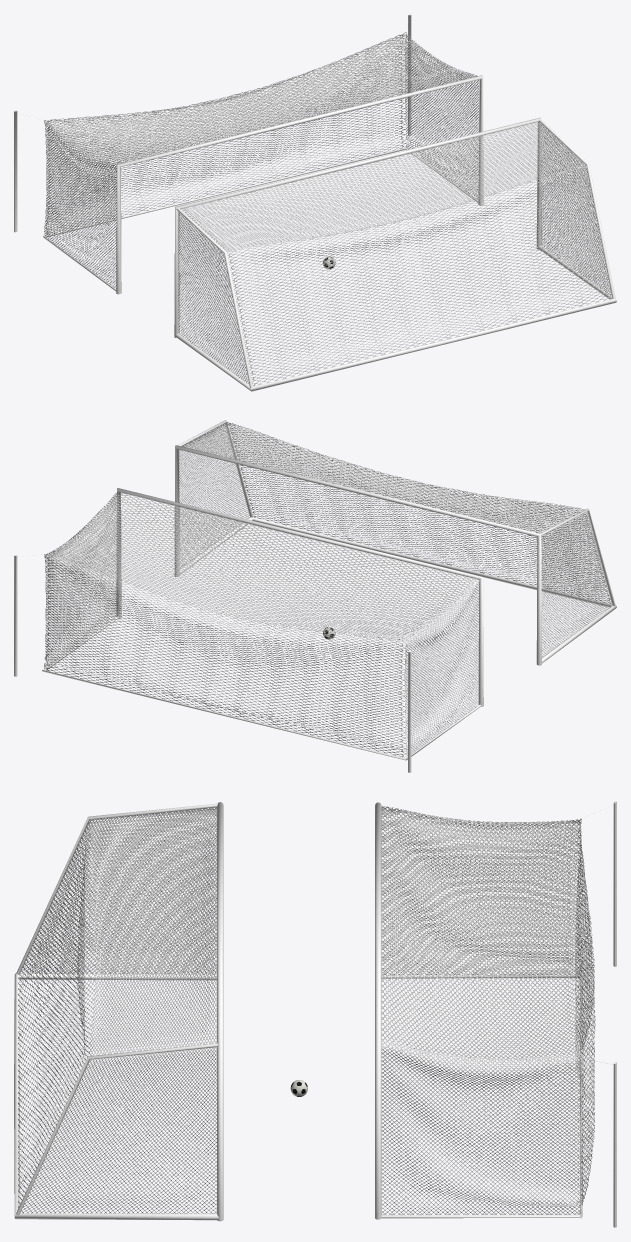
Rendered from uploads_files_5258920_Football.glb.
3 views of the same model, one above another, from view 1: azimuth 30°, elevation 25°; view 2: azimuth 150°, elevation 25°; view 3: azimuth 270°, elevation 25° (orthographic). The views are drawn at different scales.
Visible parts, largest first — view 1: Rectangular Goalpost, Suspended Goalpost; view 2: Suspended Goalpost, Rectangular Goalpost; view 3: Suspended Goalpost, Rectangular Goalpost.
Boxes of the visible parts, x1=… form: Rectangular Goalpost: x1=174, y1=117, x2=616, y2=391; Suspended Goalpost: x1=14, y1=14, x2=483, y2=294; Suspended Goalpost: x1=14, y1=488, x2=483, y2=772; Rectangular Goalpost: x1=174, y1=420, x2=616, y2=665; Suspended Goalpost: x1=375, y1=801, x2=616, y2=1227; Rectangular Goalpost: x1=14, y1=802, x2=223, y2=1221.
Size of the model in its own units: 7.95 by 2.49 by 7.7.
2 materials, 2 textured.
